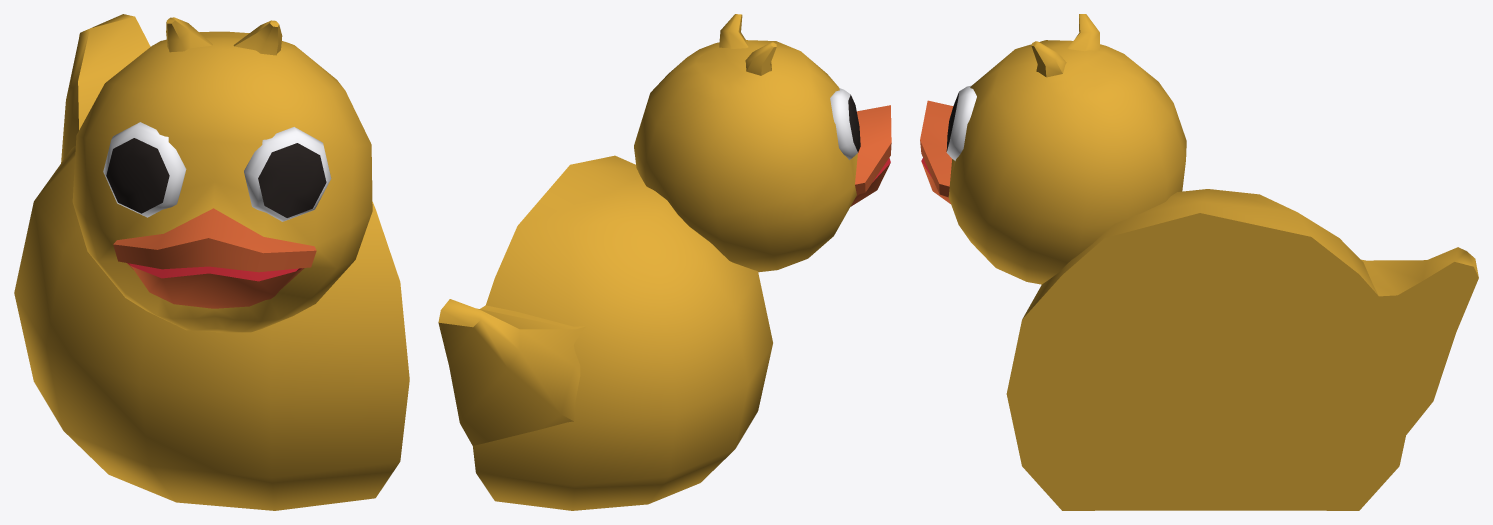
File: duckL.fbx
3 renders of one model, left to right at view 1: azimuth 30°, elevation 25°; view 2: azimuth 150°, elevation 25°; view 3: azimuth 270°, elevation 25°, orthographic. The views are drawn at different scales.
Visible parts, largest first — view 1: duck.001; view 2: duck.001; view 3: duck.001.
Part boxes in pixels (box(x1,y1,x2,y2)): duck.001: box(14, 14, 409, 510); duck.001: box(438, 14, 891, 510); duck.001: box(920, 14, 1478, 510).
Bounding box in the file's own units: 153 × 269 × 323.
